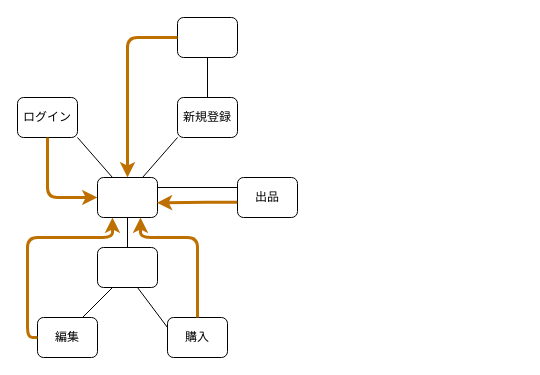
Image size: 540x375. Some labels were removed from this diagram. Here are the shapes that lost their labels. From the top down, the centre of each, then its label:
At (x=207, y=37): "詳細登録".
At (x=127, y=197): "Home".
At (x=127, y=267): "詳細".
